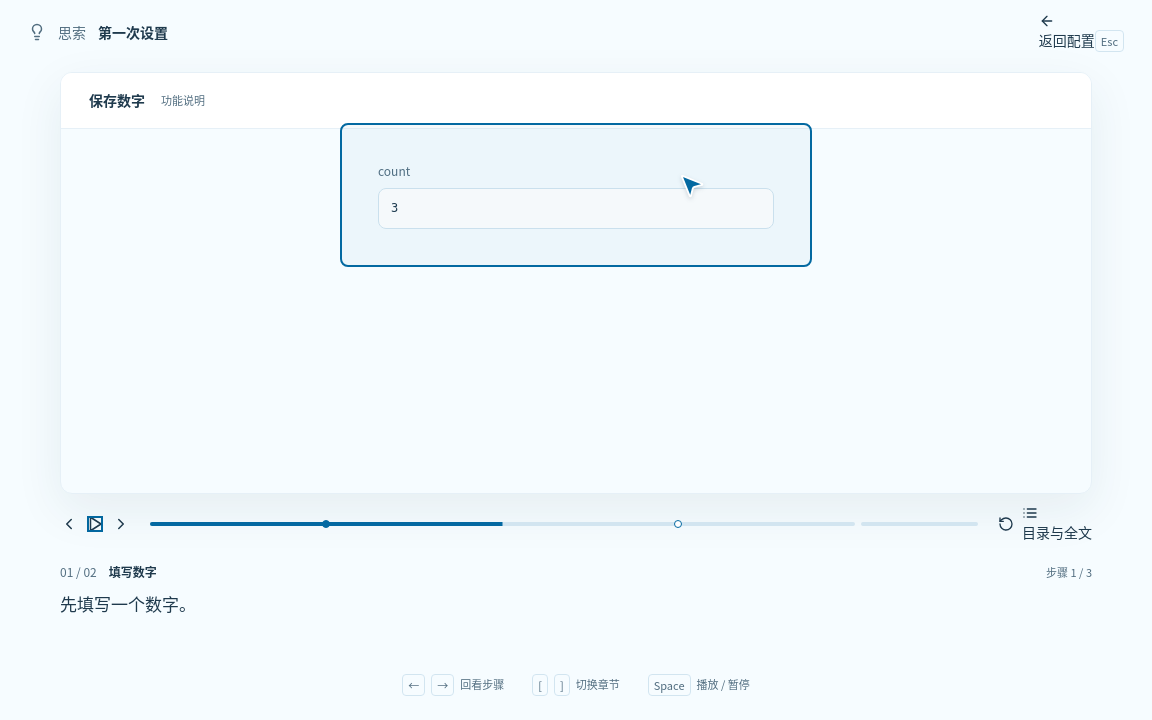
Test case: 思索说明书播放器 › 键盘回看和切章暂停在目标，空格恢复播放，组合键不触发跳转
Press ArrowRight in the dialog
Expected: the text "先填写一个数字。" is shown, [60,591,196,616]
Press ArrowRight in the dialog
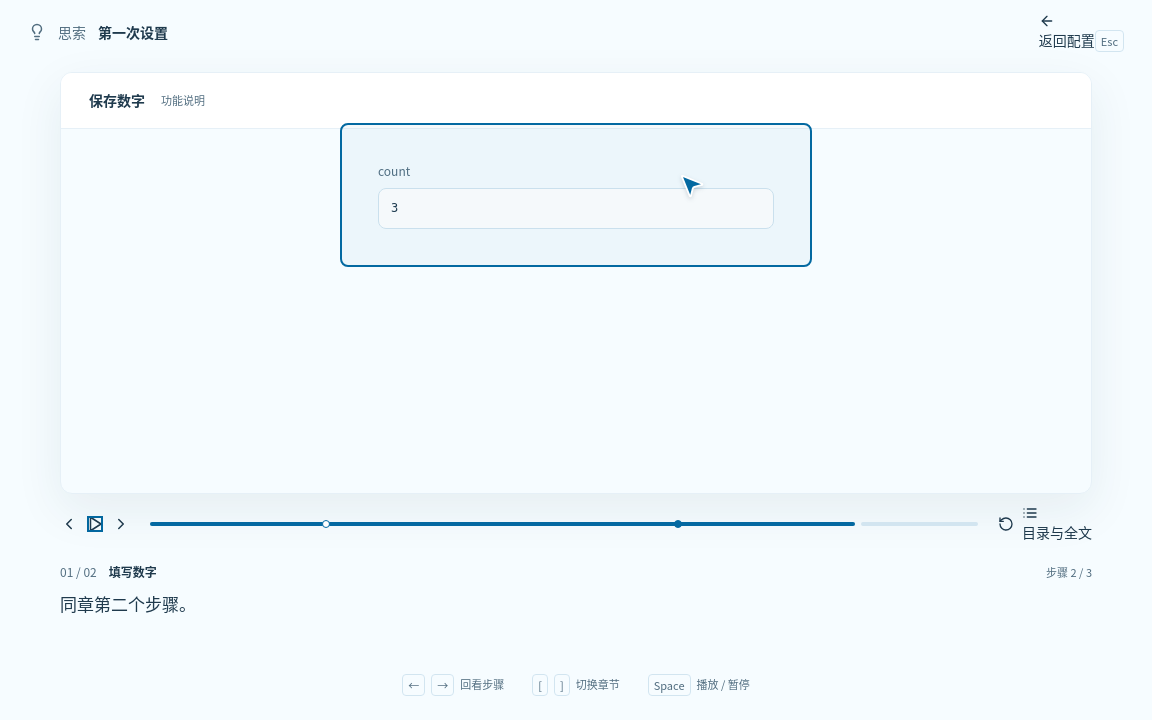
Expected: the button named "播放演示" is shown, [86,515,104,533]
Result: the text "同章第二个步骤。" is shown at [60,591,196,616]
Press ] in the dialog
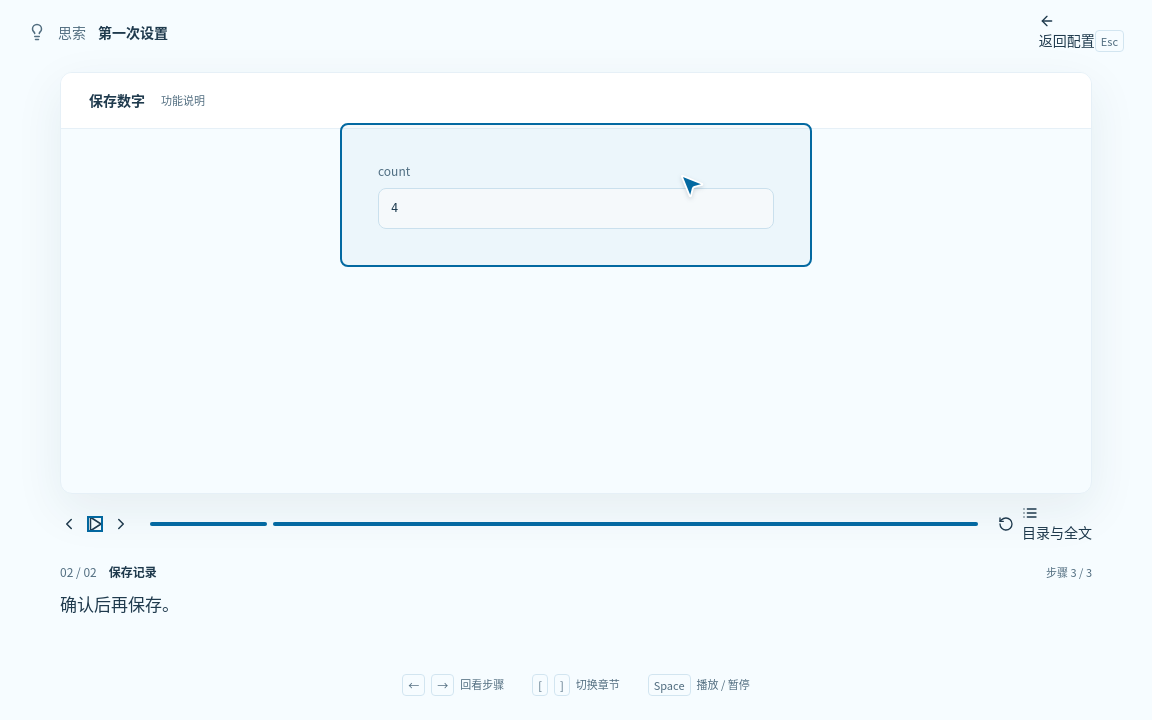
Result: the text "确认后再保存。" is shown at [60,591,179,616]
Press [ in the dialog
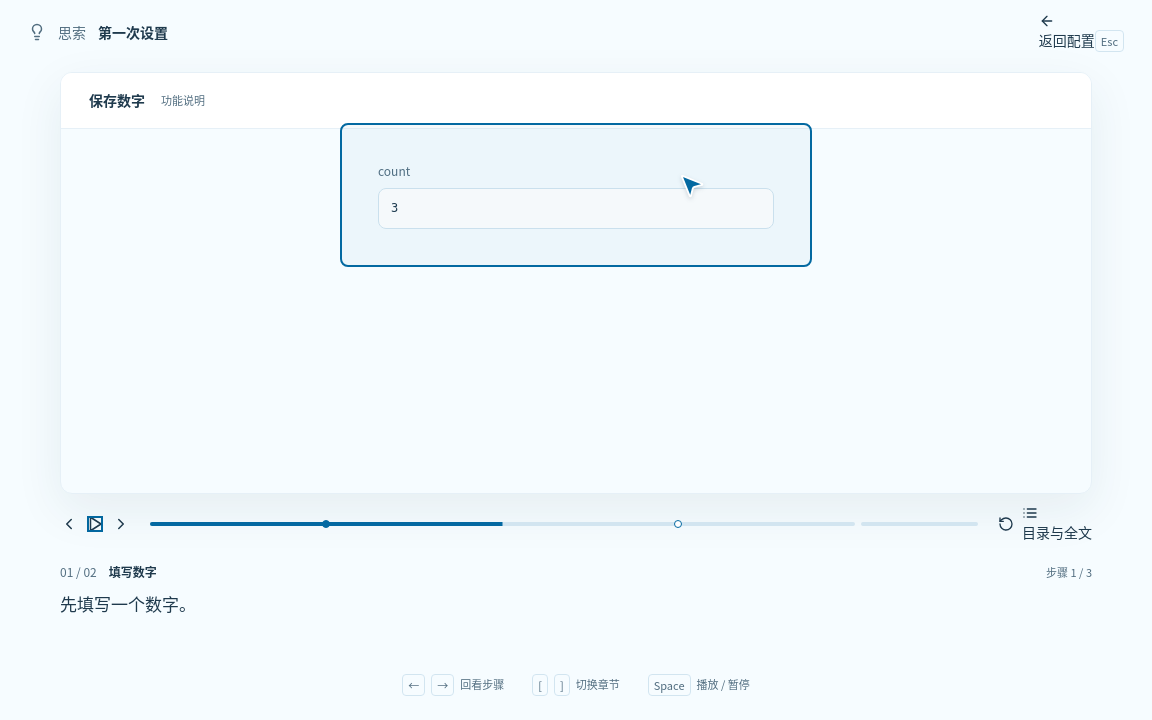
Result: the text "先填写一个数字。" is shown at [60,591,196,616]
Click the button named "回看第 2 步" at (678,524), box [666,512,690,536]
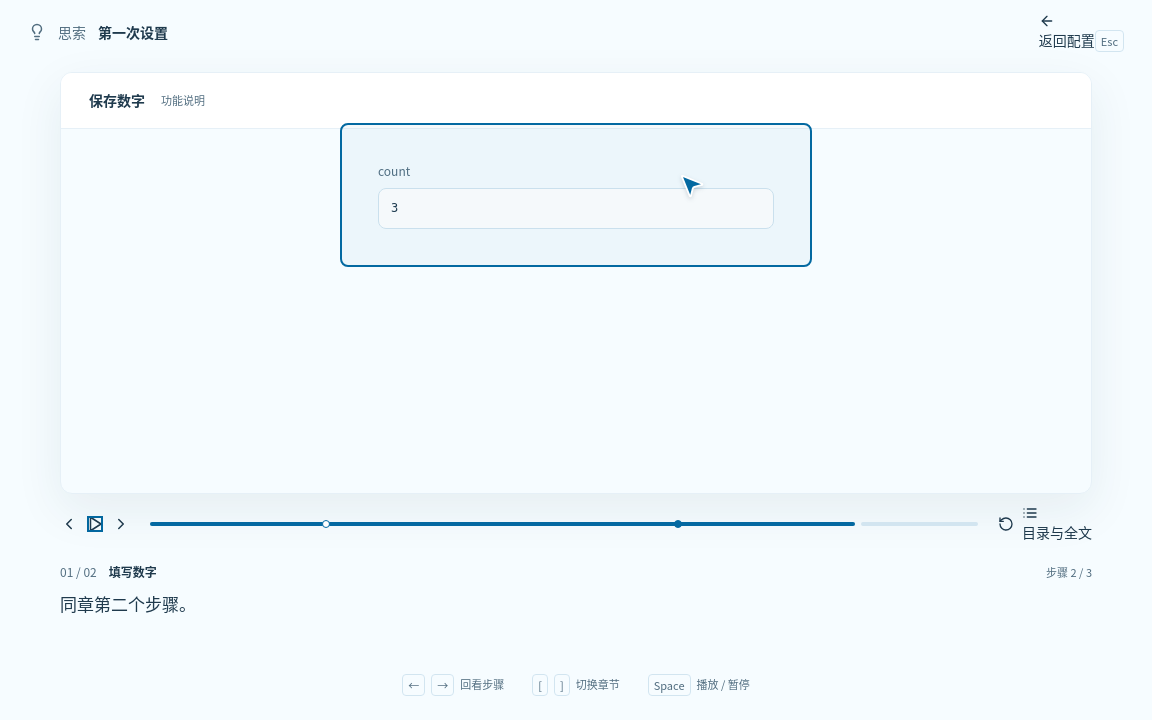
Result: the text "同章第二个步骤。" is shown at [60,591,196,616]
Press Space in the dialog
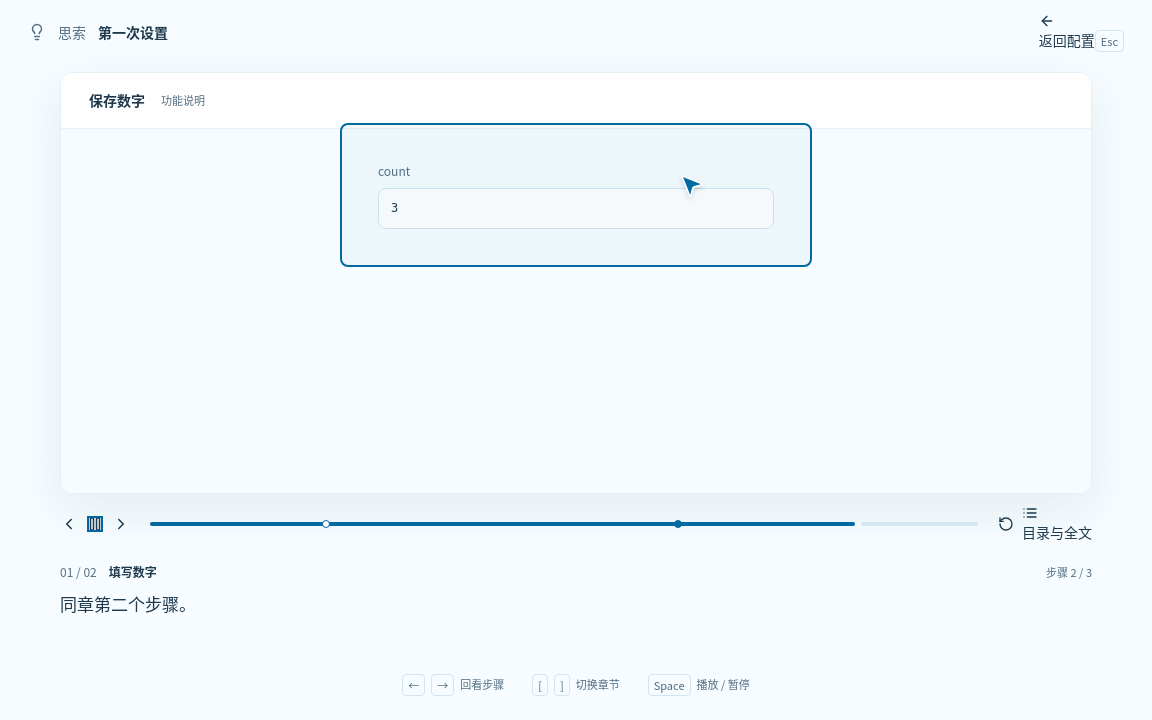
Result: the button named "暂停演示" is shown at [86,515,104,533]
